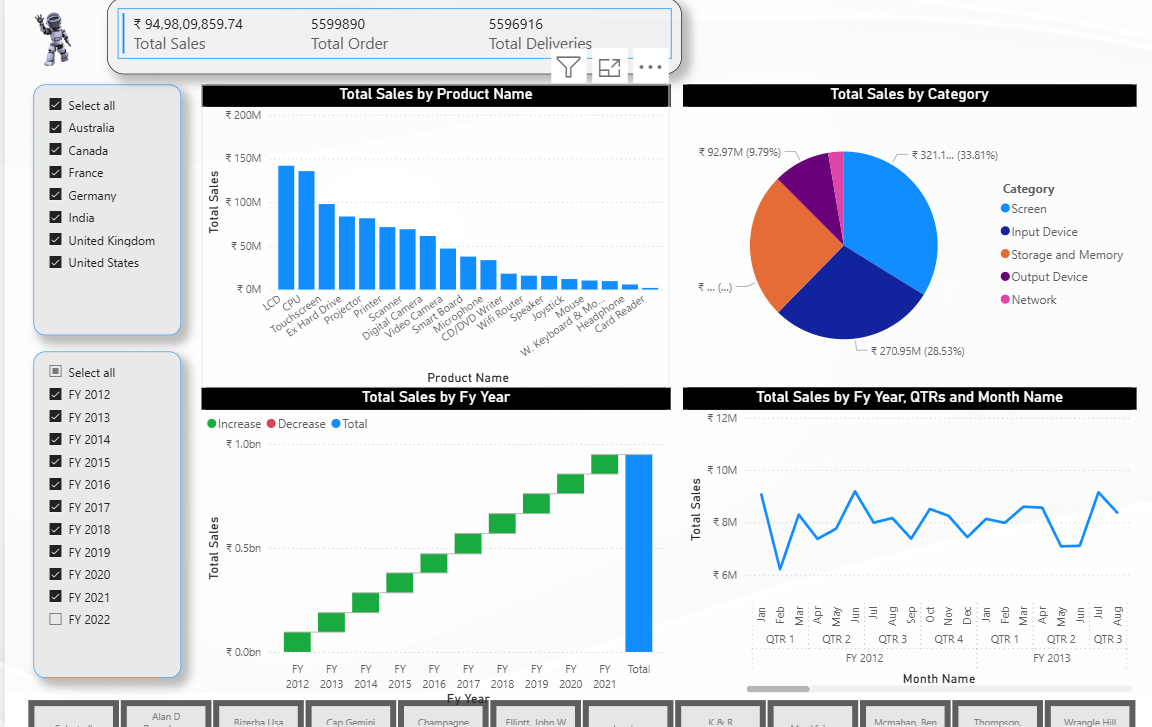

What the dashboard file says about the page in this screenshot:
{"tool":"powerbi","page":{"name":"Sales Analysis","canvas":[1280,850],"ordinal":1},"visuals":[{"type":"image","box":[18.8,13.8,76.2,76.2],"z":0},{"type":"slicer","fields":{"Values":["Store.Store Name"]},"box":[0,778.8,1280,71.2],"z":1000},{"type":"slicer","fields":{"Values":["Sales Regions.Geo Hier.Country"]},"box":[31.2,101.2,163.8,278.8],"z":2000},{"type":"multiRowCard","fields":{"Values":["MYDaxTable.Total Sales","MYDaxTable.Total Order","MYDaxTable.Total Deliveries"]},"box":[113.8,5,638.8,85],"z":3000},{"type":"clusteredColumnChart","fields":{"Category":["Product Details. Product Name "],"Y":["MYDaxTable.Total Sales"]},"box":[217.5,101.2,521.2,337.5],"z":4000},{"type":"pieChart","fields":{"Category":["Product Details. Category "],"Y":["MYDaxTable.Total Sales"]},"box":[752.5,101.2,503.8,337.5],"z":5000},{"type":"waterfallChart","fields":{"Y":["MYDaxTable.Total Sales"],"Category":["CalendarTable.Date Hier.Fy Year","CalendarTable.Date Hier.QTRs","CalendarTable.Date Hier.Month Name"]},"box":[217.5,438.8,521.2,357.5],"z":6000},{"type":"lineChart","fields":{"Y":["MYDaxTable.Total Sales"],"Category":["CalendarTable.Date Hier.Fy Year","CalendarTable.Date Hier.QTRs","CalendarTable.Date Hier.Month Name"]},"box":[752.5,438.8,503.8,343.8],"z":7000},{"type":"slicer","fields":{"Values":["CalendarTable.Date Hier.Fy Year"]},"box":[31.2,397.5,163.8,362.5],"z":8000}]}

Visuals, with their boxes on the page's 1280x850 design canvas (x1, y1, x2, y2). These are canvas units, not pixel positions in the 1152x727 screenshot, which may show the page scaled, cropped or inside an application window:
image: 19, 14, 95, 90
slicer - Store.Store Name: 0, 779, 1280, 850
slicer - Sales Regions.Geo Hier.Country: 31, 101, 195, 380
multiRowCard - MYDaxTable.Total Sales x MYDaxTable.Total Order: 114, 5, 753, 90
clusteredColumnChart - Product Details. Product Name  x MYDaxTable.Total Sales: 218, 101, 739, 439
pieChart - Product Details. Category  x MYDaxTable.Total Sales: 752, 101, 1256, 439
waterfallChart - MYDaxTable.Total Sales x CalendarTable.Date Hier.Fy Year: 218, 439, 739, 796
lineChart - MYDaxTable.Total Sales x CalendarTable.Date Hier.Fy Year: 752, 439, 1256, 783
slicer - CalendarTable.Date Hier.Fy Year: 31, 398, 195, 760
